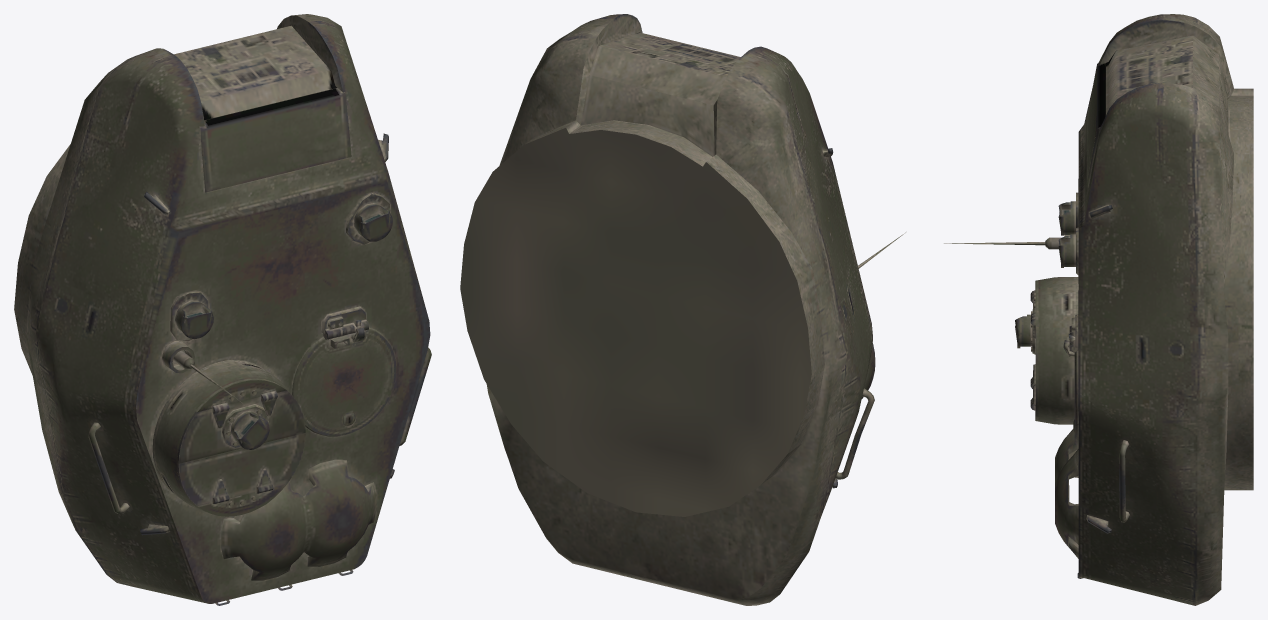
File: Turret_01.glb
The picture shows the model from 3 angles, left to right: view 1: azimuth 30°, elevation 25°; view 2: azimuth 150°, elevation 25°; view 3: azimuth 270°, elevation 25°; orthographic projection. The views are drawn at different scales.
Parts seen in each view (by area): view 1: set_0_group_0; view 2: set_0_group_0; view 3: set_0_group_0.
Boxes of the visible parts, x1,y1,x2,y2 form: set_0_group_0: (14, 14, 431, 605); set_0_group_0: (460, 14, 905, 605); set_0_group_0: (944, 14, 1253, 605).
Size of the model in its own units: 2.01 by 2.85 by 1.57.
1 material, 1 textured.
